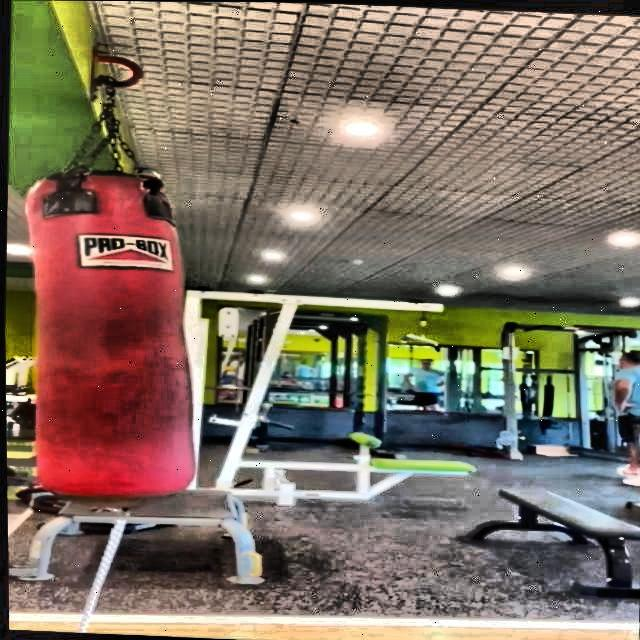boxing-bag: (12, 68, 200, 517)
